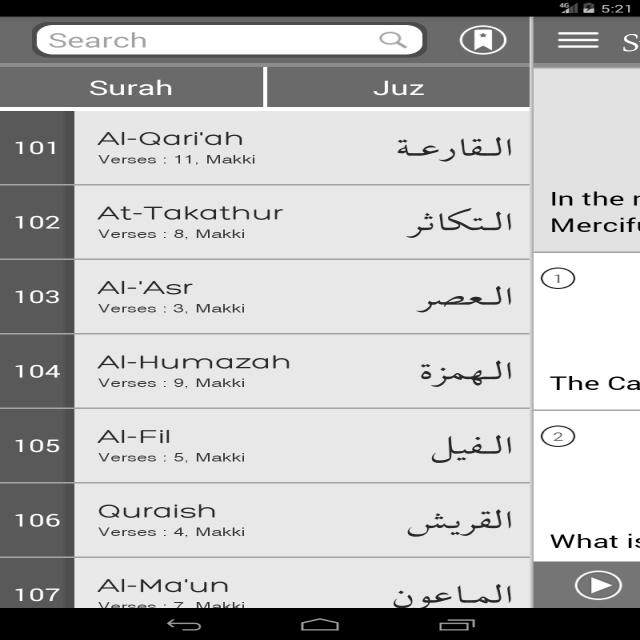EditText-: (20, 21, 438, 58)
ImageButton: (452, 22, 515, 58), (546, 23, 604, 53)
TextView: (91, 345, 310, 395), (90, 200, 302, 248), (91, 123, 279, 175), (380, 197, 526, 251), (88, 496, 242, 542), (399, 349, 530, 394), (414, 426, 530, 473), (386, 129, 526, 167), (389, 506, 526, 540), (541, 186, 626, 238), (78, 73, 179, 99), (354, 74, 446, 102), (14, 279, 72, 309), (5, 134, 70, 159), (4, 434, 70, 458)
